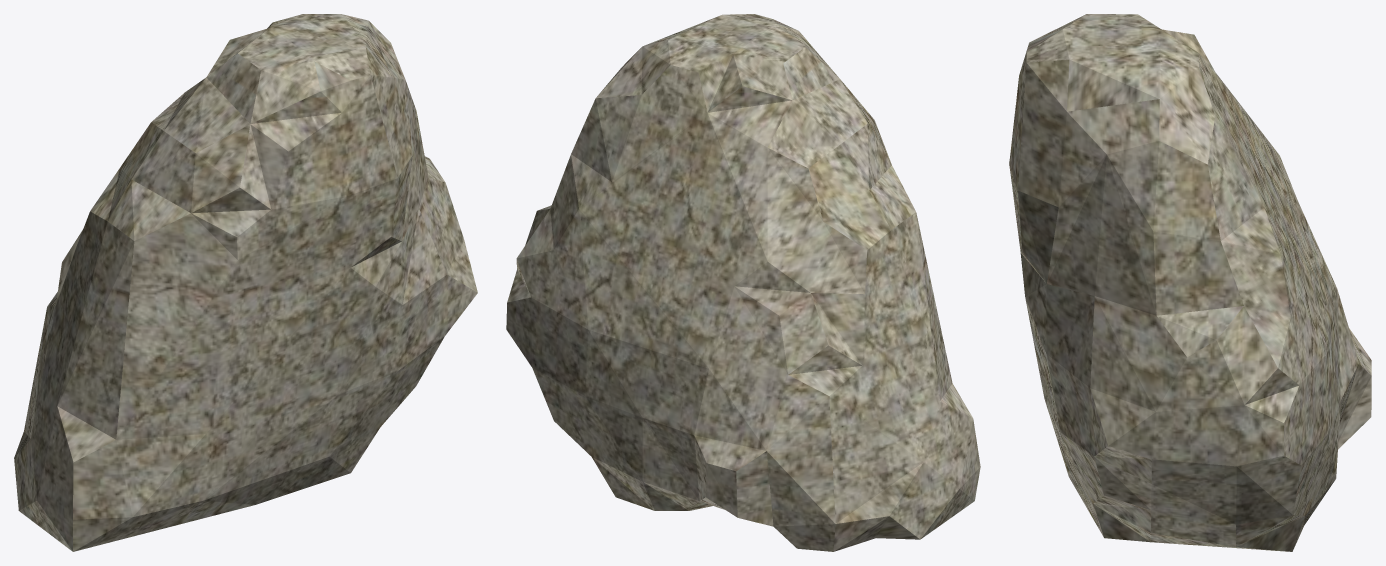
The model's file is rock_rock.glb.
The picture shows the model from 3 angles, left to right: view 1: azimuth 30°, elevation 25°; view 2: azimuth 150°, elevation 25°; view 3: azimuth 270°, elevation 25°; orthographic projection. The views are drawn at different scales.
Visible parts, largest first — view 1: Rock01v3_Rock_HP.004; view 2: Rock01v3_Rock_HP.004; view 3: Rock01v3_Rock_HP.004.
Part boxes in pixels (left/top/right/bottom): Rock01v3_Rock_HP.004: left=14, top=14, right=477, bottom=551; Rock01v3_Rock_HP.004: left=506, top=14, right=980, bottom=551; Rock01v3_Rock_HP.004: left=1009, top=14, right=1371, bottom=551.
Bounding box in the file's own units: 0.505 × 0.5 × 0.337.
Materials: 1 (1 with a texture image).
